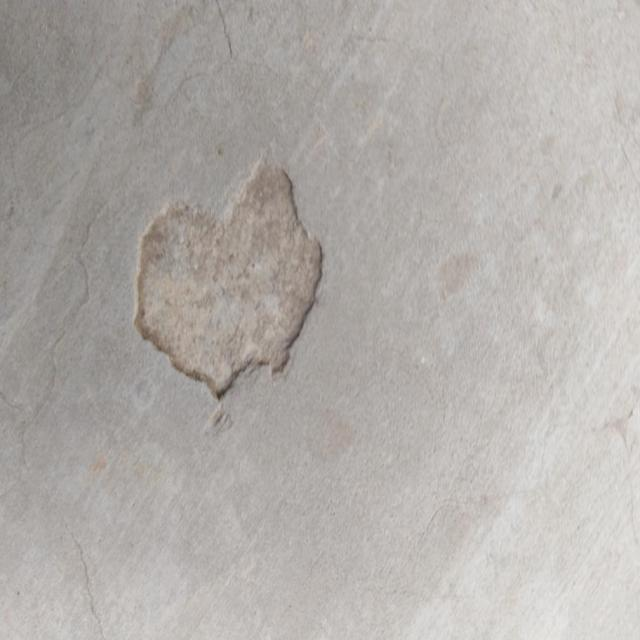concrete spalling: (134, 159, 324, 400)
multi-branched crack: (164, 1, 296, 108)
vertical crack: (0, 31, 164, 639)
